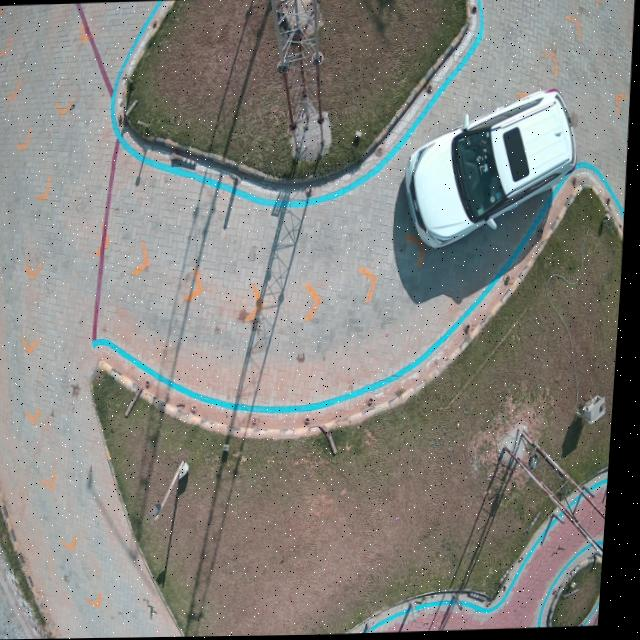car: (407, 91, 579, 249)
